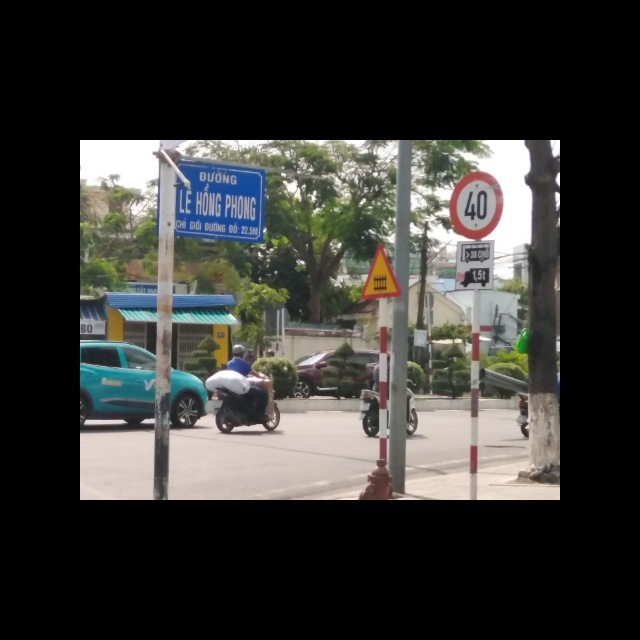Giao nhau với đường sắt có rào chắn: (359, 238, 402, 300)
Tốc độ tối đa cho phép 40km/h: (447, 170, 505, 240)
